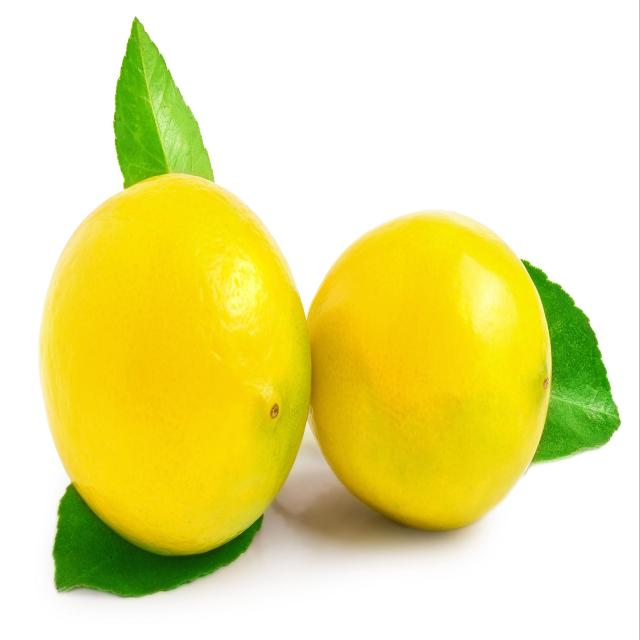lemon: (34, 168, 313, 562), (298, 200, 554, 536)
